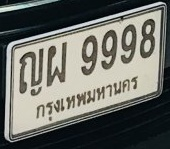txt10: (17, 47, 45, 98)
txt23: (45, 40, 69, 88)
